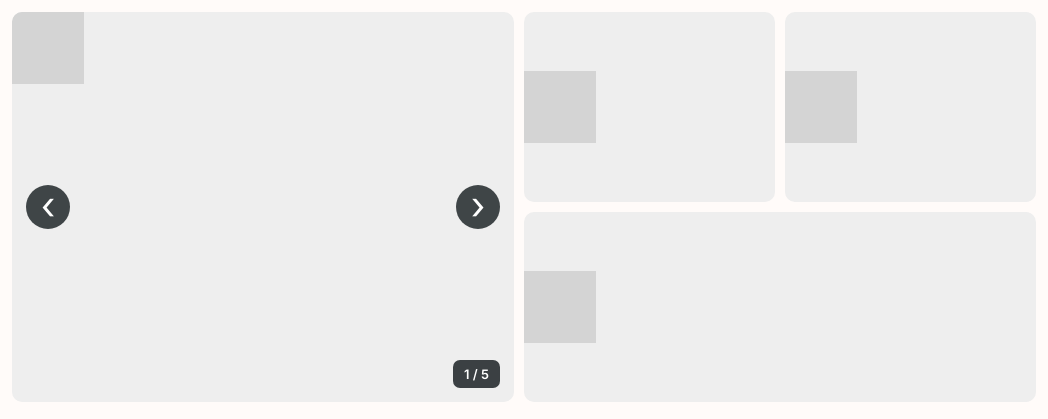
Test case: AccommodationCarousel › permet de passer à la photo suivante et de revenir en arrière
The width and height of the screenshot is (1048, 419).
Click the button named "Photo suivante" at (478, 207), box [456,185,500,229]
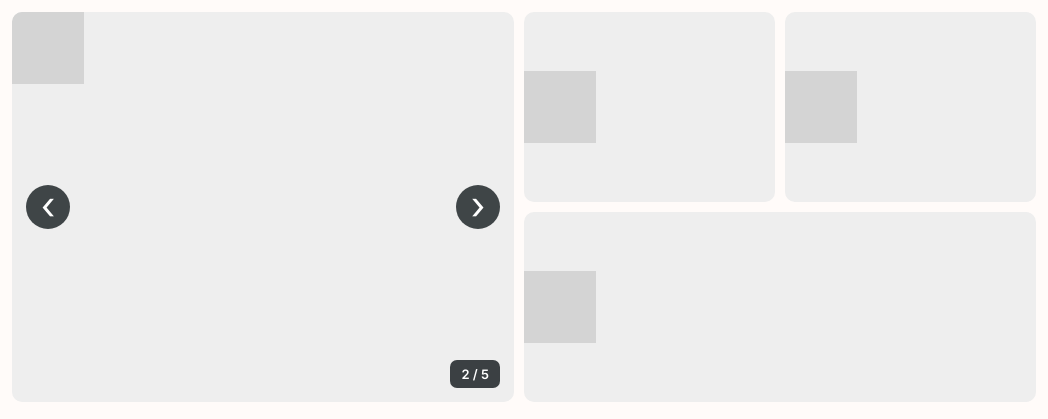
Now the text "2 / 5" is shown, box [450,360,500,388]
Click the button named "Photo précédente" at (48, 207), box [26,185,70,229]
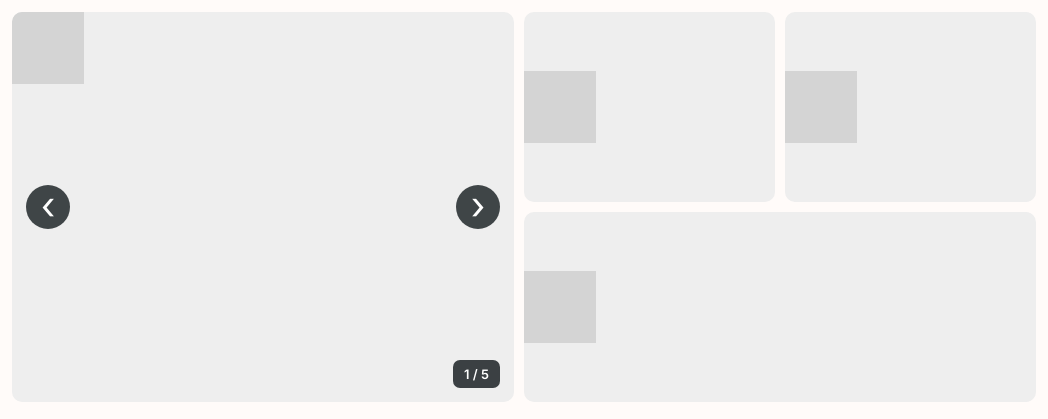
Now the text "1 / 5" is shown, box [453,360,500,388]
